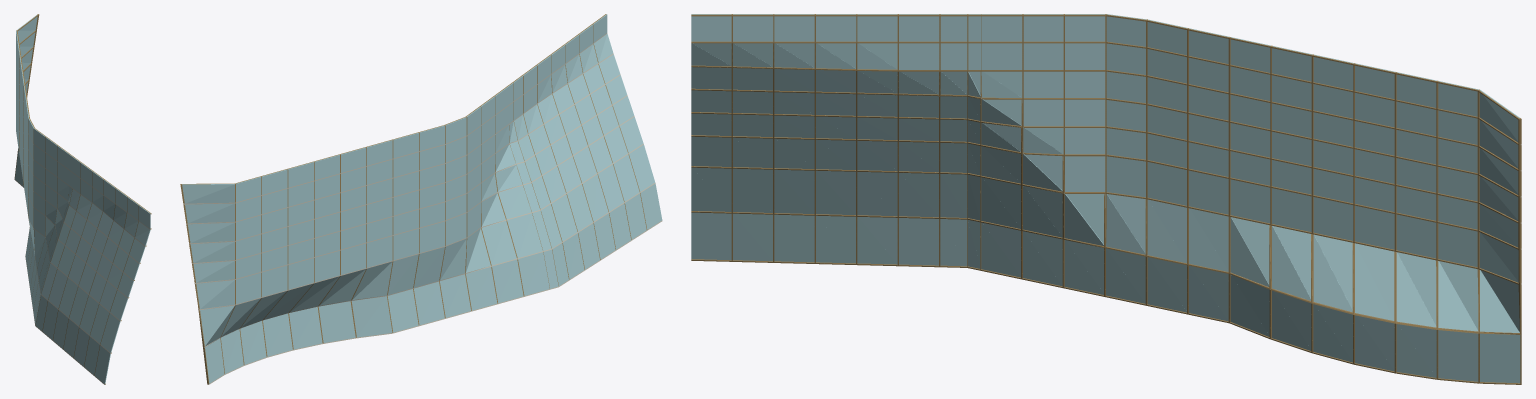
File: G7_Completion_R005B_Body_-1_00.glb
3 renders of one model, left to right at view 1: azimuth 30°, elevation 25°; view 2: azimuth 150°, elevation 25°; view 3: azimuth 270°, elevation 25°, orthographic. The views are drawn at different scales.
Parts seen in each view (by area): view 1: Body_-1_00_G7C3_glass_solid_skin, Body_-1_00_G7C3_metal_solid_skin, Body_-1_00_G7C3_shell_solid_skin, Body_-1_00_G7C3_metal_solid_frame; view 2: Body_-1_00_G7C3_glass_solid_skin, Body_-1_00_G7C3_metal_solid_skin, Body_-1_00_G7C3_shell_solid_skin, Body_-1_00_G7C3_metal_solid_frame; view 3: Body_-1_00_G7C3_glass_solid_skin, Body_-1_00_G7C3_metal_solid_frame.
Boxes of the visible parts, x1,y1,x2,y2 form: Body_-1_00_G7C3_glass_solid_skin: (15,14,150,383); Body_-1_00_G7C3_metal_solid_skin: (14,14,138,375); Body_-1_00_G7C3_shell_solid_skin: (14,47,150,384); Body_-1_00_G7C3_metal_solid_frame: (16,14,151,384); Body_-1_00_G7C3_glass_solid_skin: (182,14,662,383); Body_-1_00_G7C3_metal_solid_skin: (180,24,647,383); Body_-1_00_G7C3_shell_solid_skin: (183,33,662,384); Body_-1_00_G7C3_metal_solid_frame: (180,14,606,384); Body_-1_00_G7C3_glass_solid_skin: (691,14,1520,383); Body_-1_00_G7C3_metal_solid_frame: (691,14,1521,384).
Bounding box in the file's own units: 49.67 × 45.5 × 120.
Materials: 3 (2 with a texture image).
